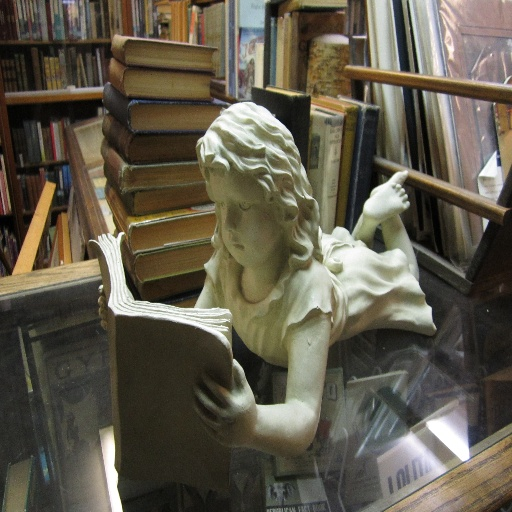hand: (182, 358, 278, 452), (97, 285, 109, 333)
